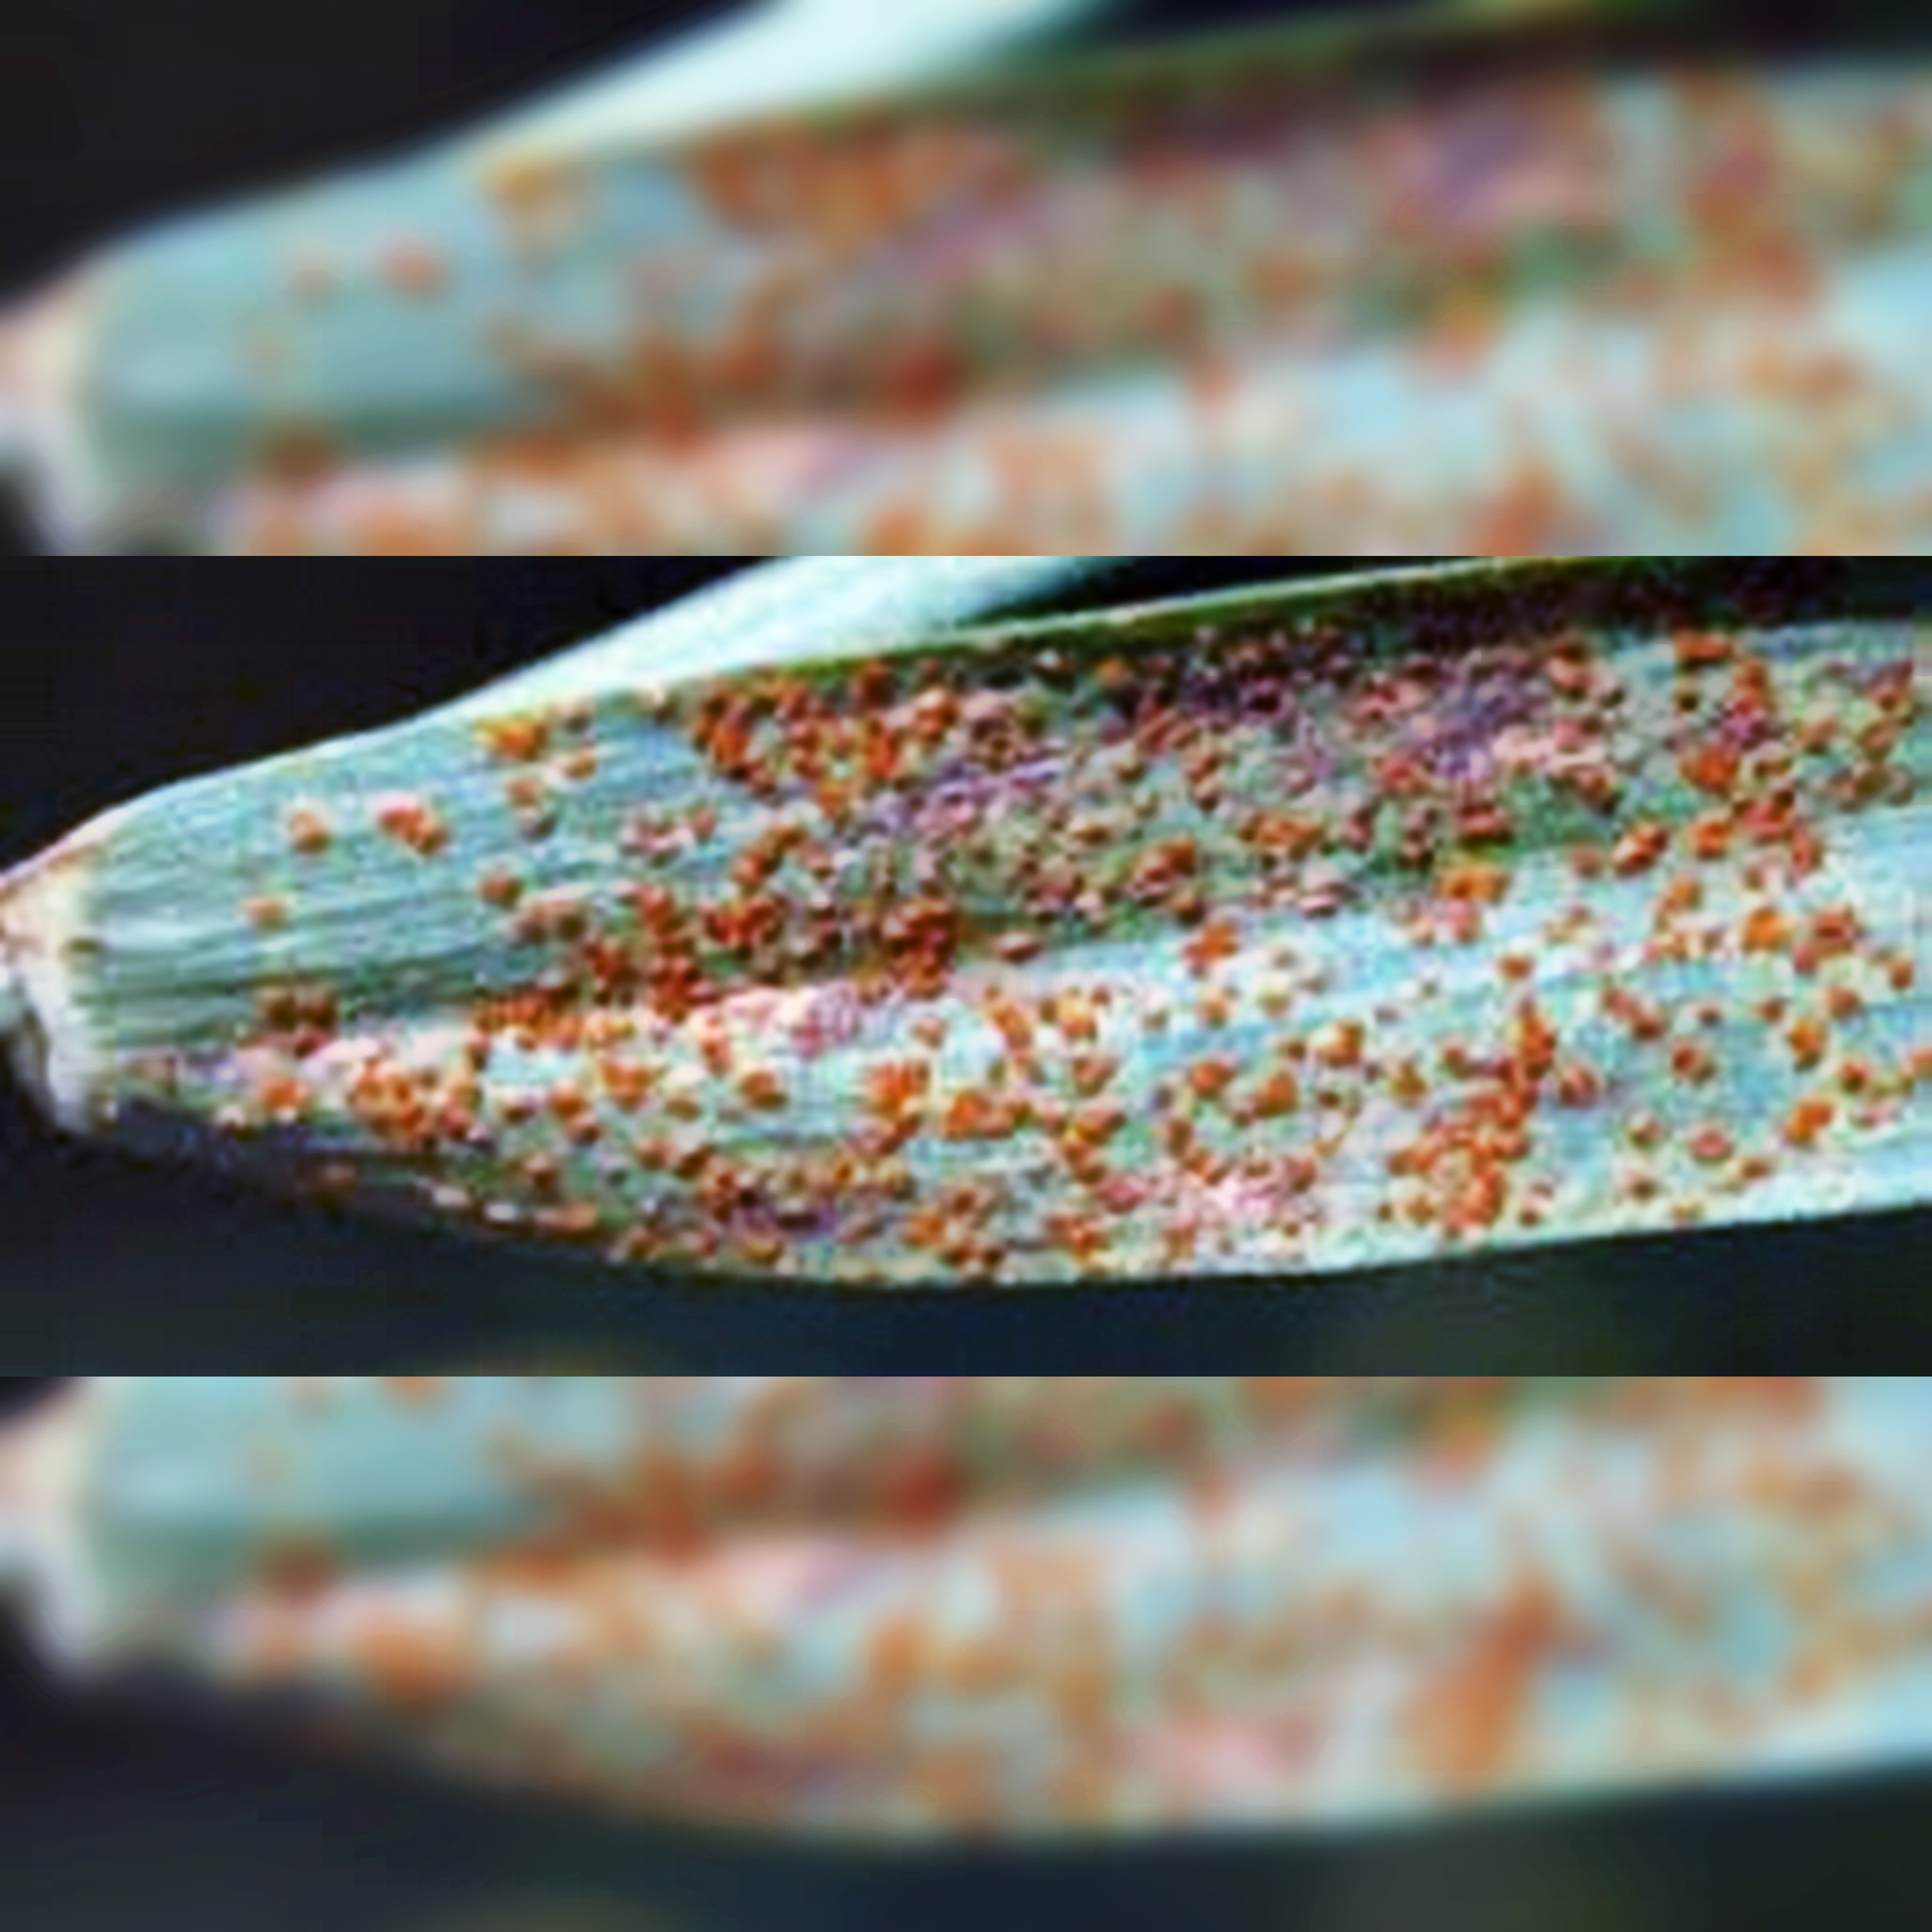Leaf Rust: (380, 563, 1810, 1288)
